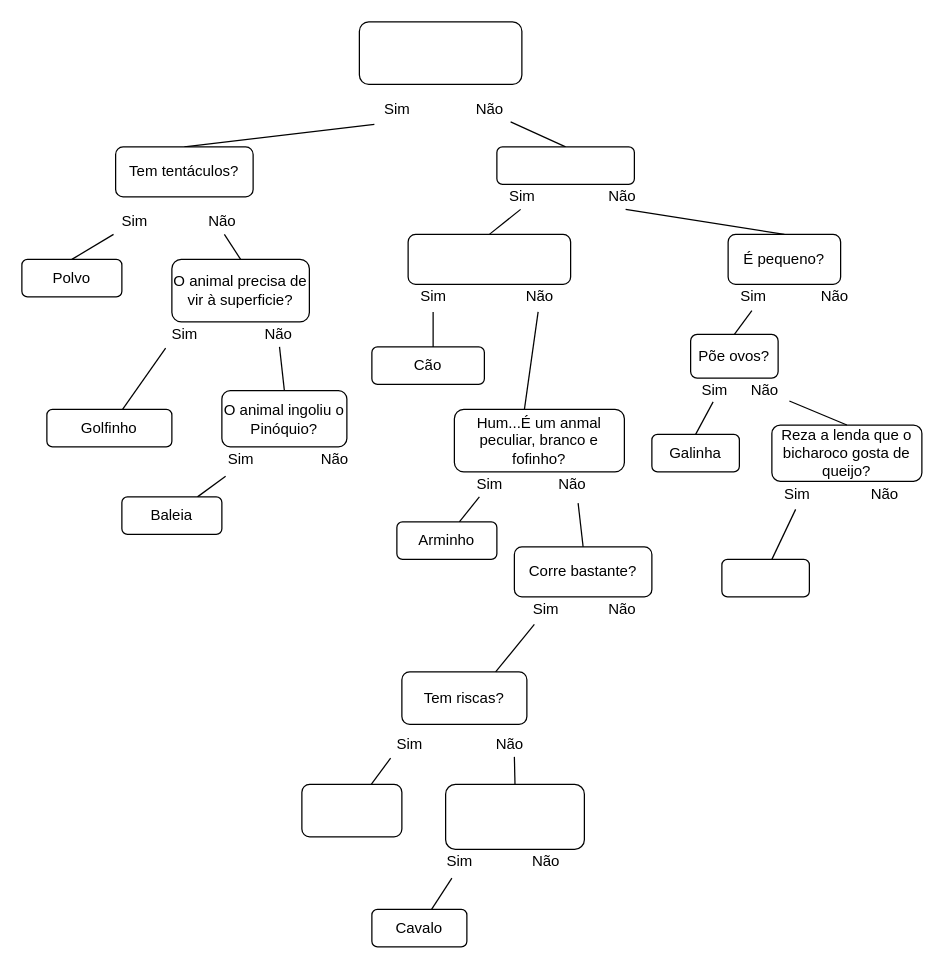
The diagram is 944 pixels wide and 969 high, and some of its shapes have lost their labels. Each missing label, with the box of its shape:
Está Presente no filme 101 dalmatas: (407, 233, 571, 284)
O seu habitat é a agua?: (358, 21, 522, 84)
Rato: (721, 558, 809, 597)
Tem quatro patas?: (496, 146, 634, 184)
Zebra: (301, 783, 402, 837)
É um animal presente no filme spirit?: (444, 783, 584, 849)
